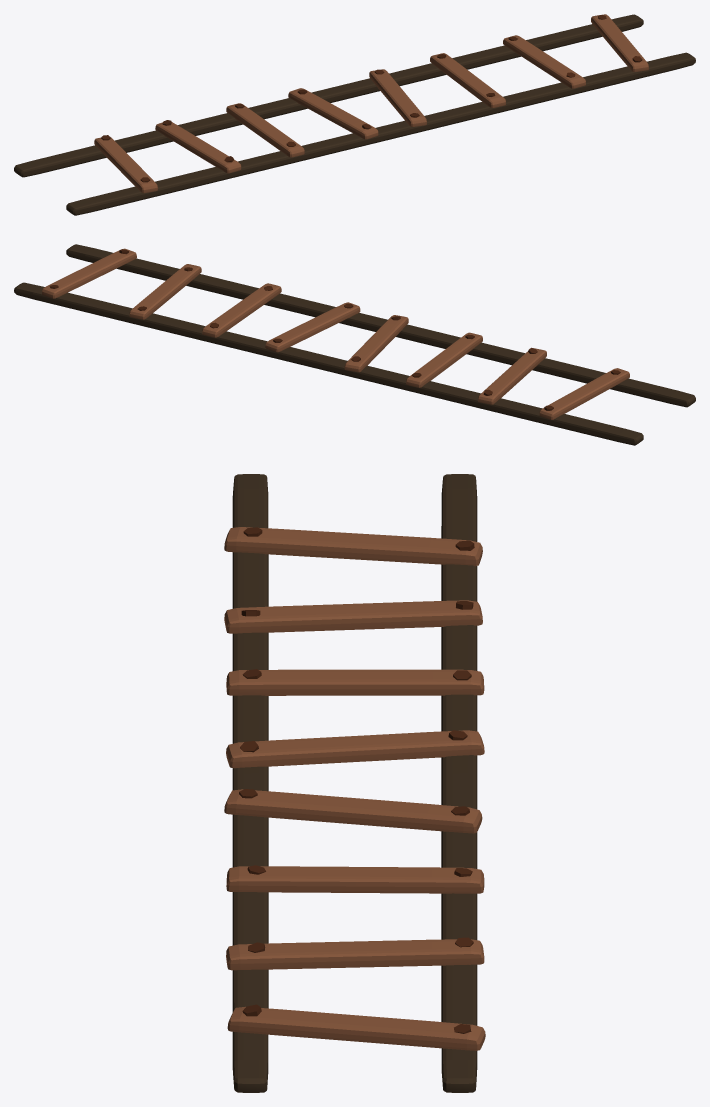
File: Ladders.fbx
3 renders of one model, top to bottom at view 1: azimuth 30°, elevation 25°; view 2: azimuth 150°, elevation 25°; view 3: azimuth 270°, elevation 25°, orthographic. The views are drawn at different scales.
Visible parts, largest first — view 1: Ladders; view 2: Ladders; view 3: Ladders.
Part boxes in pixels (x1,y1,x2,y2): Ladders: [14, 14, 695, 215]; Ladders: [14, 244, 695, 445]; Ladders: [224, 474, 485, 1092].
Bounding box in the file's own units: 539 × 14.78 × 97.75.
